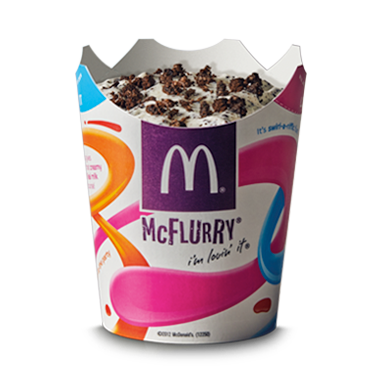mcdonalds: (156, 139, 227, 196)
